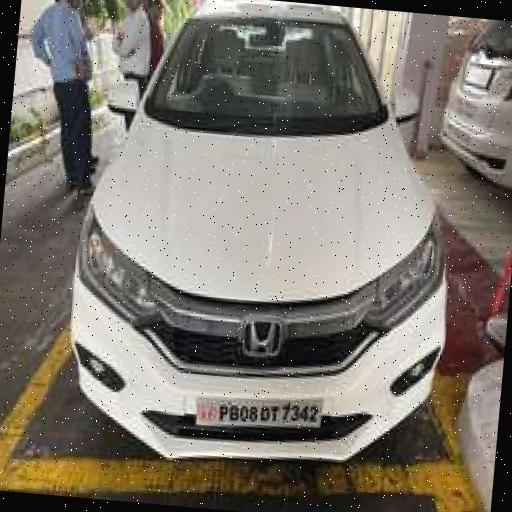license_plate`: (194, 382, 322, 432)
